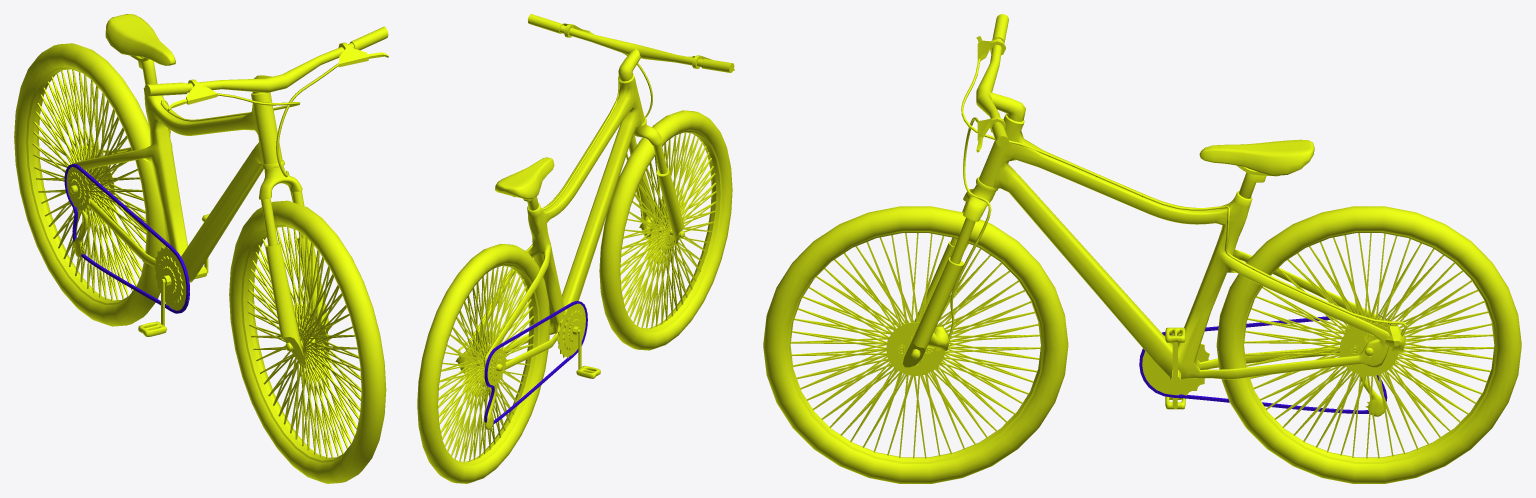
File: Bicycle.fbx
3 renders of one model, left to right at view 1: azimuth 30°, elevation 25°; view 2: azimuth 150°, elevation 25°; view 3: azimuth 270°, elevation 25°, orthographic. The views are drawn at different scales.
Visible parts, largest first — view 1: FrontWheel, RearWheel, Bicycle, Handle, Seat, Pedalier, Chain; view 2: FrontWheel, RearWheel, Bicycle, Handle, Seat, Pedalier, Chain; view 3: FrontWheel, RearWheel, Bicycle, Handle, Seat, Pedalier, Chain.
Boxes of the visible parts, x1,y1,x2,y2 form: FrontWheel: (229, 200, 386, 483); RearWheel: (14, 43, 166, 326); Bicycle: (70, 88, 300, 282); Handle: (144, 26, 388, 364); Seat: (105, 14, 175, 84); Pedalier: (154, 221, 208, 325); Chain: (64, 163, 189, 313); FrontWheel: (599, 110, 732, 350); RearWheel: (417, 243, 550, 483); Bicycle: (455, 56, 692, 429); Handle: (528, 14, 734, 244); Seat: (495, 157, 554, 210); Pedalier: (557, 303, 585, 369); Chain: (484, 301, 587, 424); FrontWheel: (763, 206, 1068, 483); RearWheel: (1216, 206, 1521, 483); Bicycle: (961, 59, 1406, 416); Handle: (903, 14, 1025, 367); Seat: (1199, 139, 1314, 198); Pedalier: (1142, 334, 1209, 408); Chain: (1139, 315, 1390, 413).
Bounding box in the file's own units: 0.6603 × 1.03 × 1.73.
